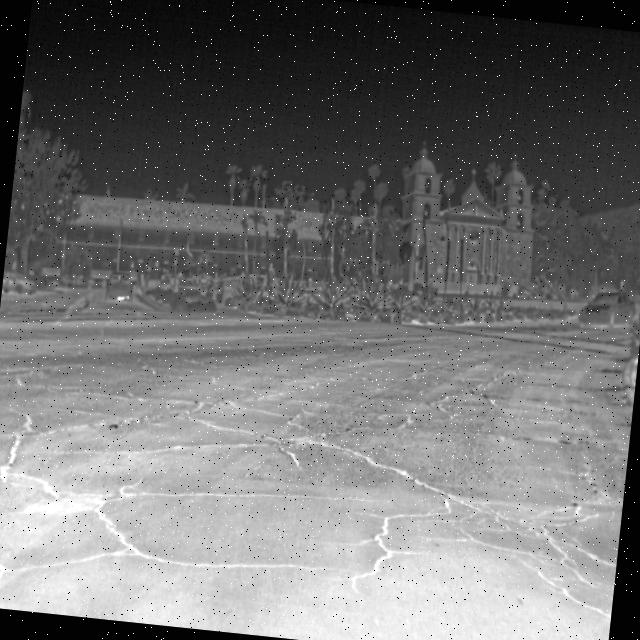Pedestrian: (264, 260, 278, 291)
Vehicle: (572, 282, 640, 336), (100, 266, 137, 306), (1, 266, 38, 298)
